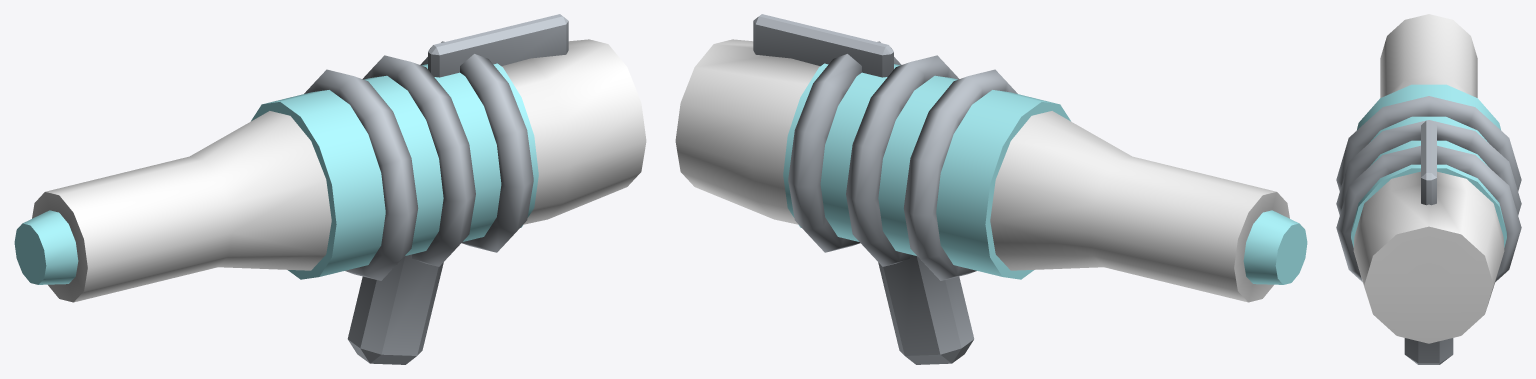
The model's file is PlasmaCannon.fbx.
3 views of the same model, side by side, from view 1: azimuth 30°, elevation 25°; view 2: azimuth 150°, elevation 25°; view 3: azimuth 270°, elevation 25° (orthographic). The views are drawn at different scales.
Parts seen in each view (by area): view 1: PlasmaCannon; view 2: PlasmaCannon; view 3: PlasmaCannon.
Boxes of the visible parts, x1,y1,x2,y2 form: PlasmaCannon: [14, 14, 646, 364]; PlasmaCannon: [675, 14, 1307, 364]; PlasmaCannon: [1336, 14, 1521, 364].
Size of the model in its own units: 1.05 by 0.5305 by 0.344.
